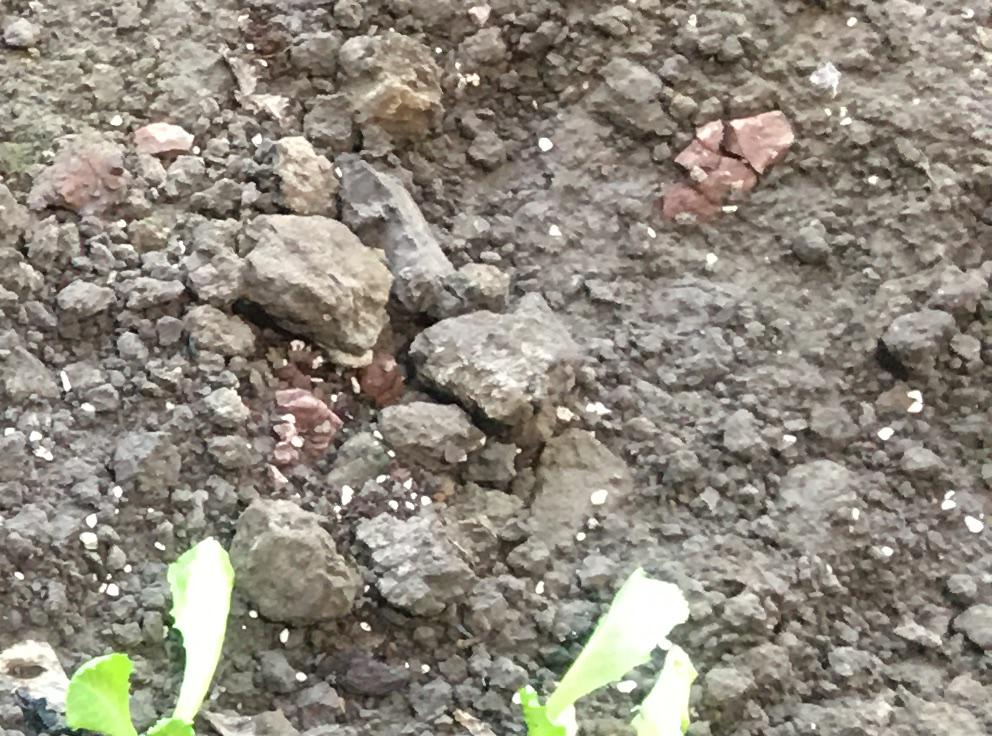block: (238, 208, 387, 350), (408, 298, 571, 425), (229, 492, 357, 627), (361, 507, 467, 614)
